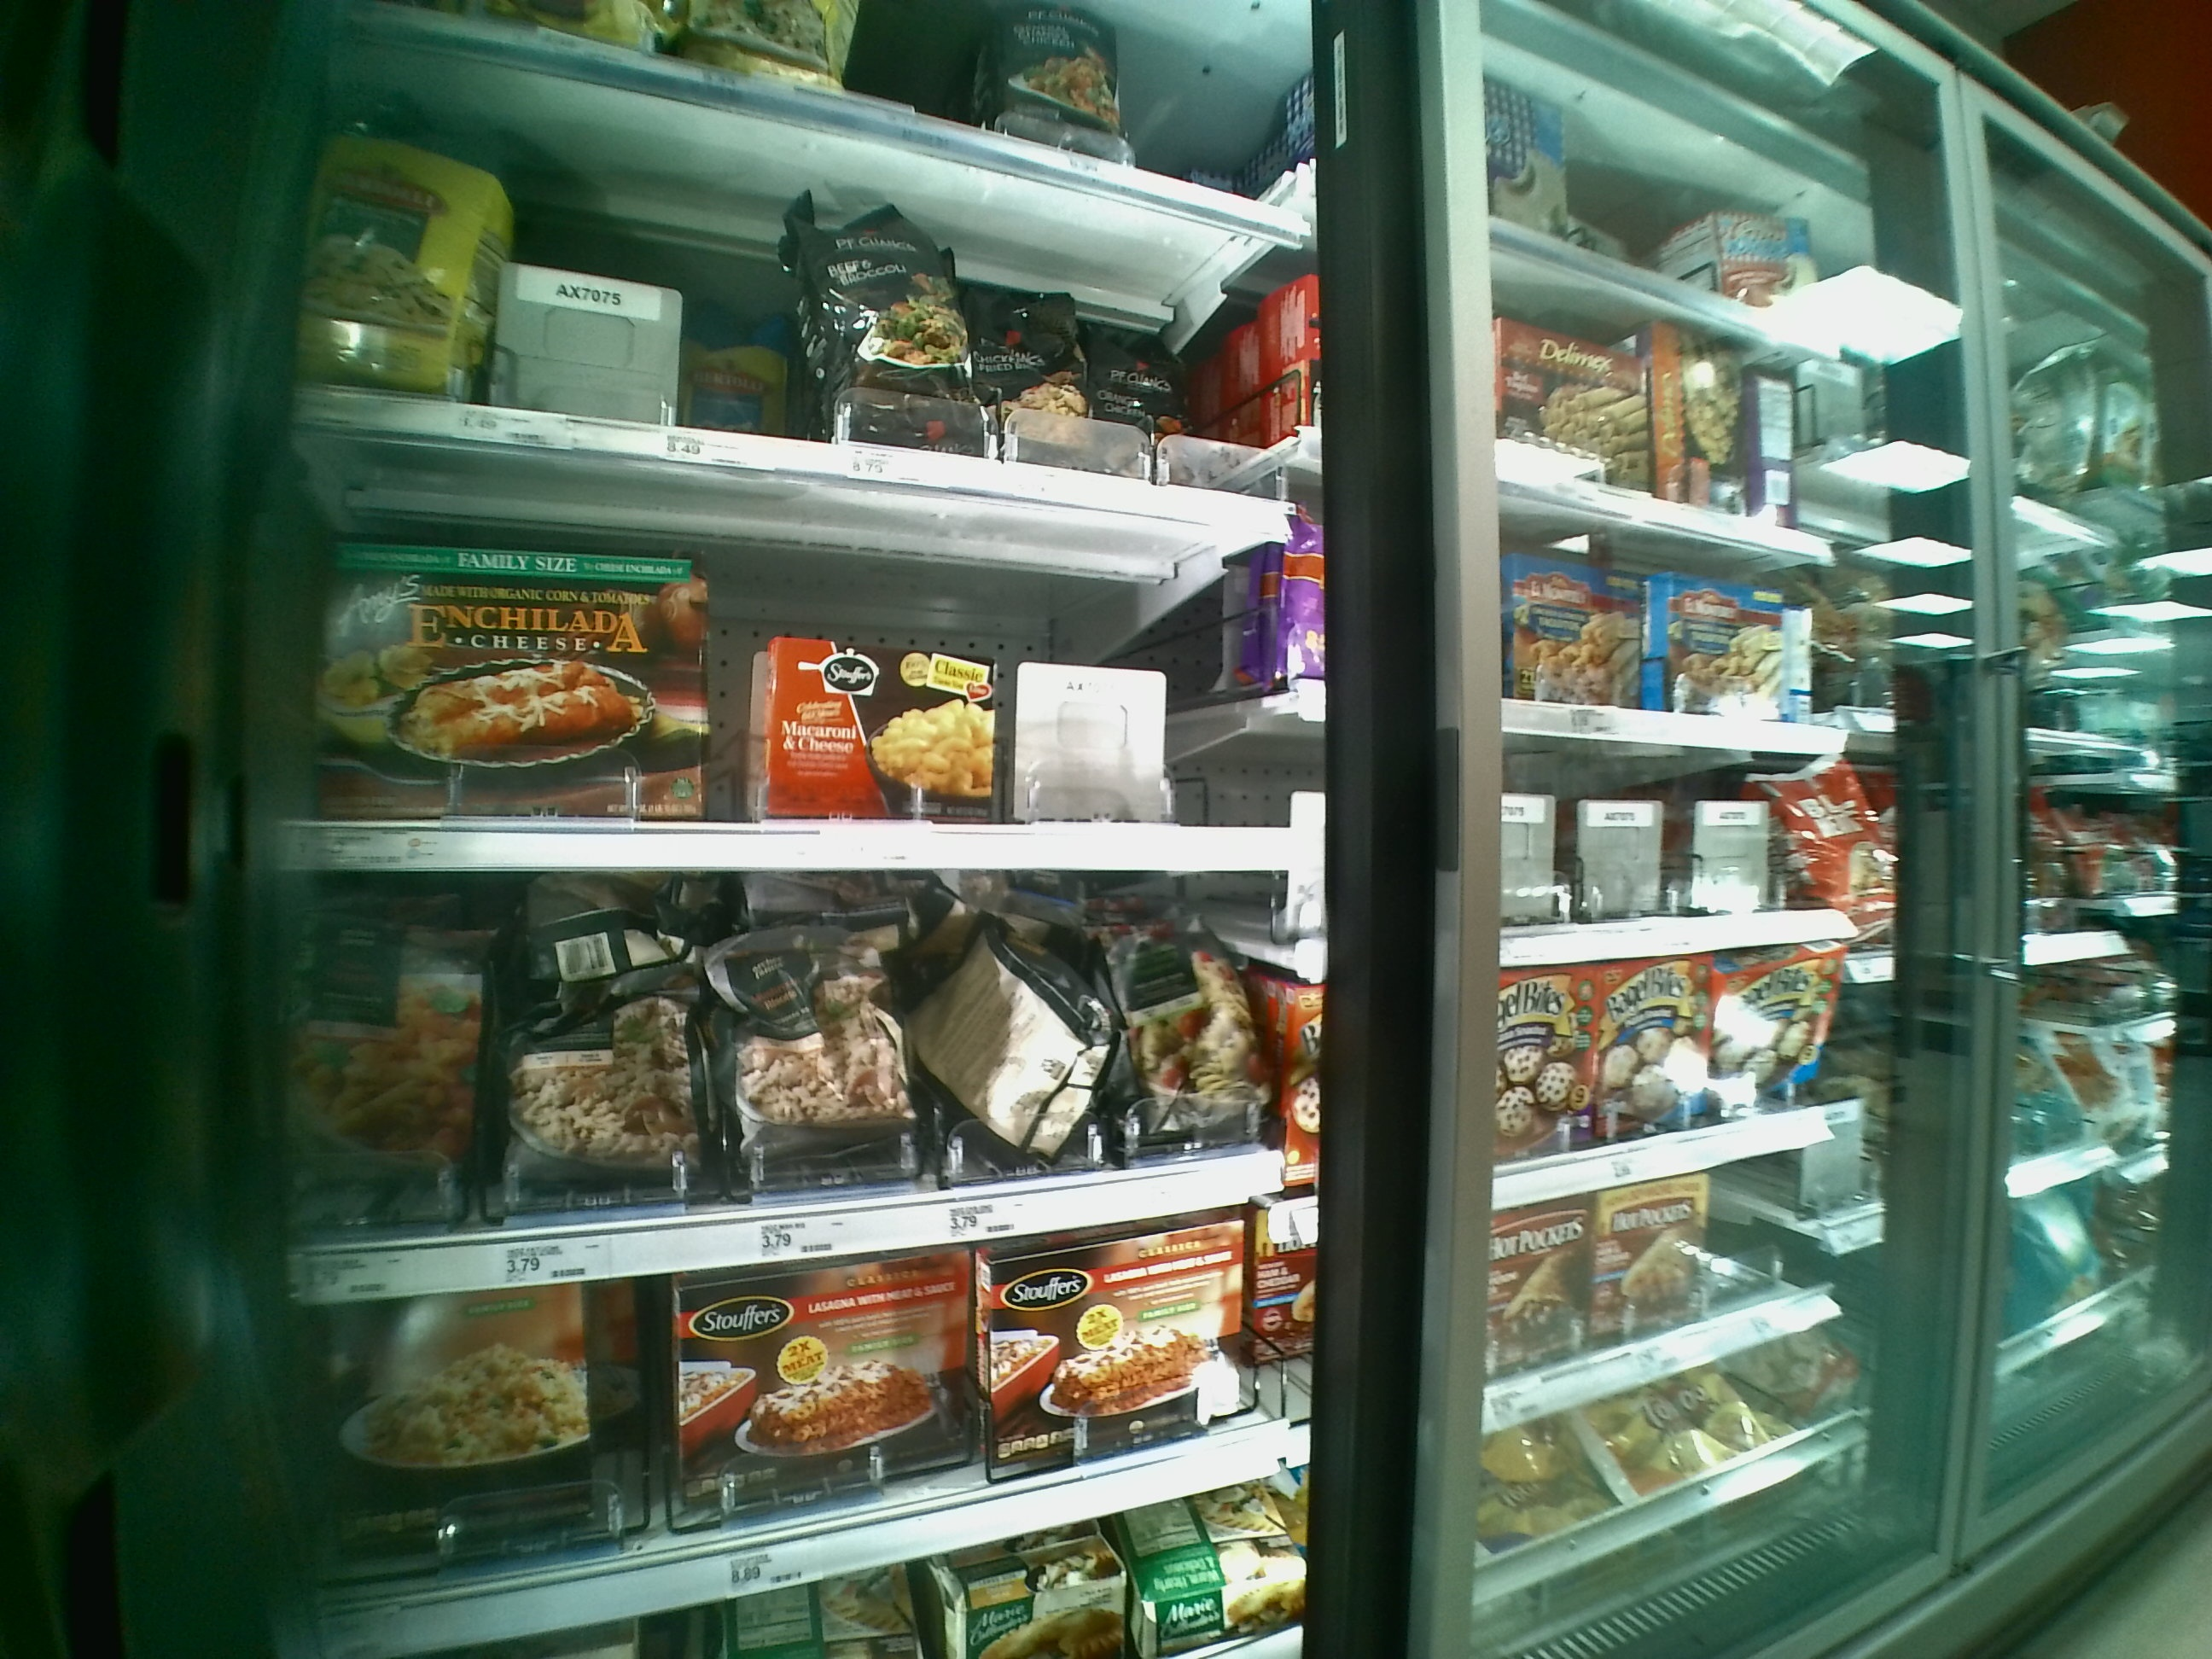shelf: (261, 866, 1331, 1234), (279, 115, 1306, 493), (275, 493, 1317, 864), (282, 1239, 1313, 1568)
